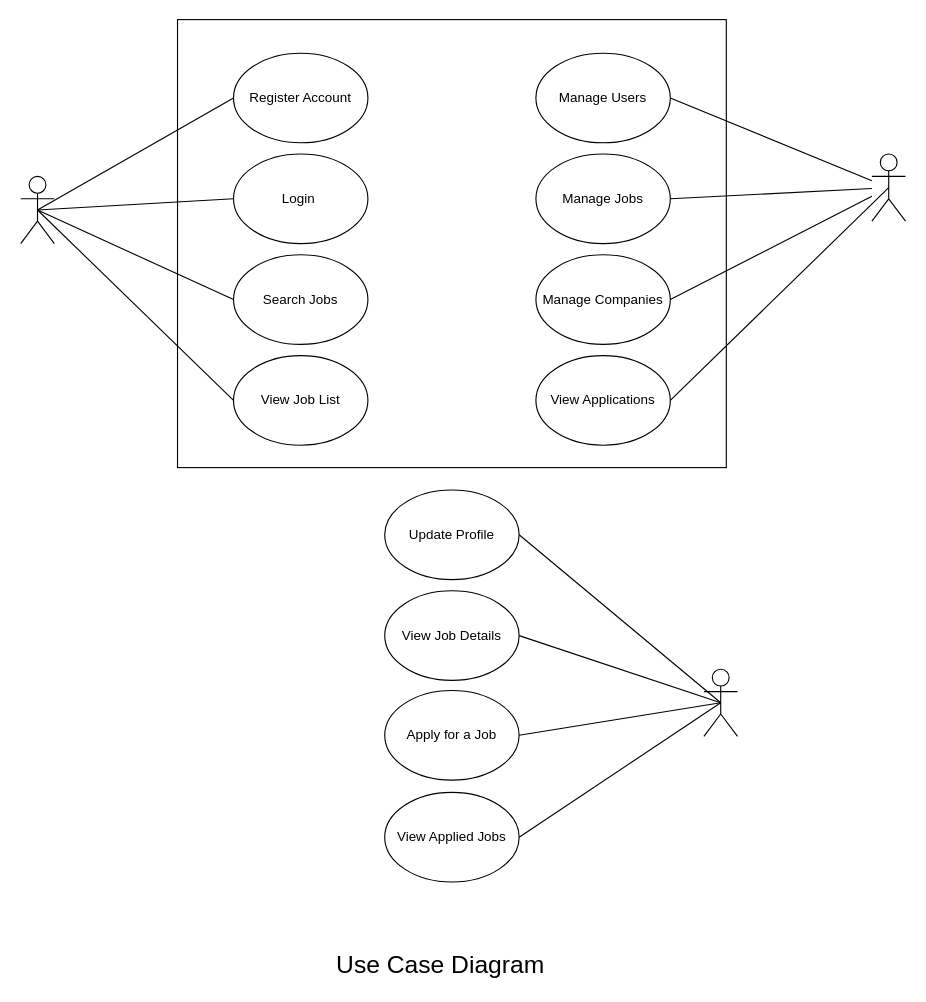
The diagram is 926 pixels wide and 1002 high, and some of its shapes have lost their labels. The shapes that lost their labels are listed below. From the top down, each one's centre as x and y in pixels, then its label:
At (x=888, y=187): "Admin".
At (x=37, y=209): "Guest".
At (x=720, y=702): "User".
